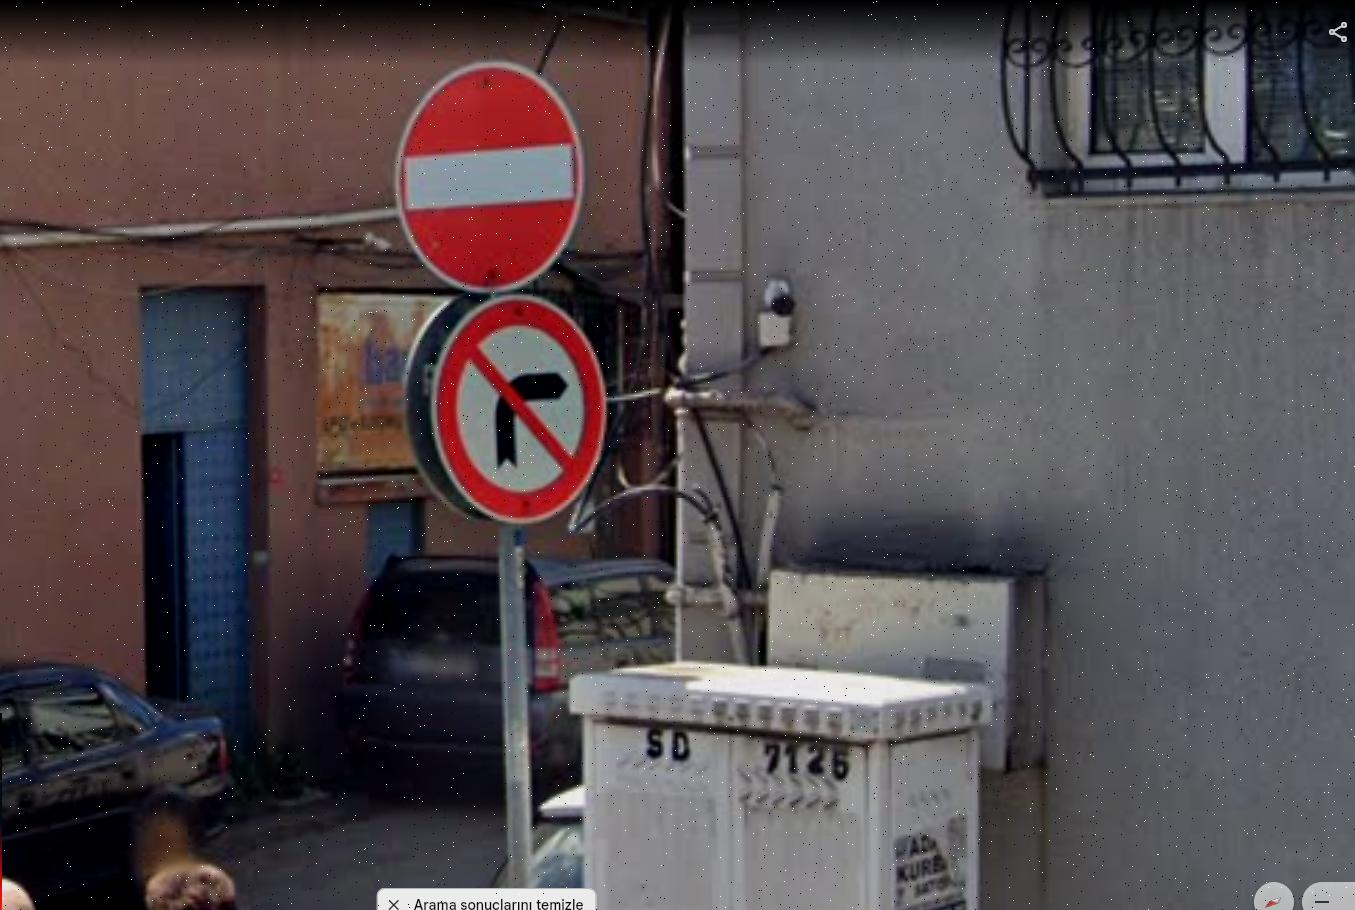rightturnsareforbidden: (445, 309, 594, 507)
